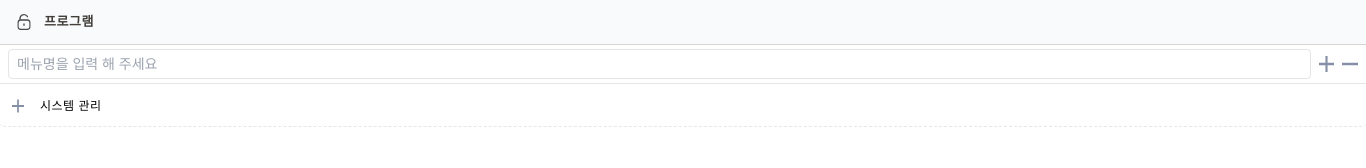
Scenario: MenuTree - 메뉴 트리 컴포넌트 › 전체 확장/축소 테스트 › 전체 확장 버튼 클릭 시 모든 메뉴가 펼쳐져야 한다
Click the picture with alt text "plus".
click(1327, 64)  # box x1=1319 y1=56 x2=1334 y2=72
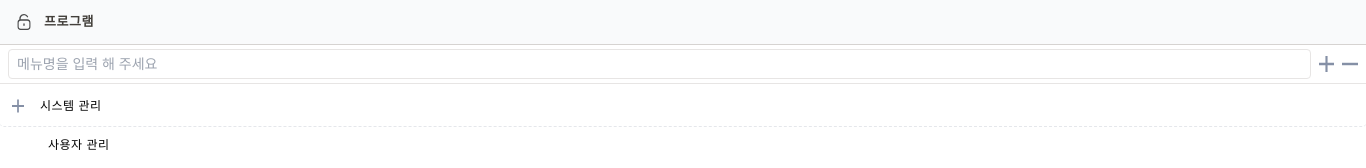
Now the text "사용자 관리" is shown, box x1=48 y1=139 x2=110 y2=151
